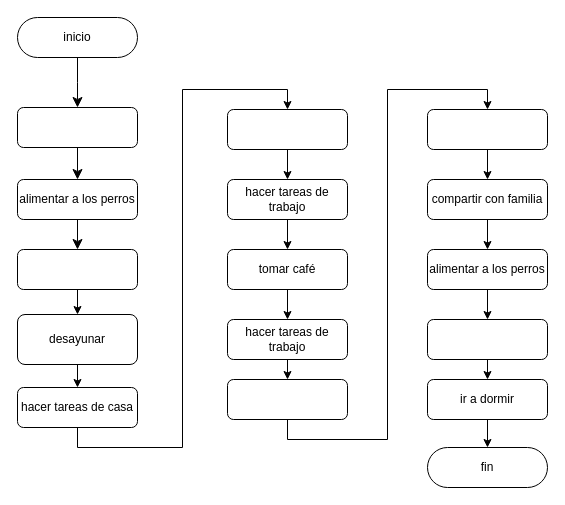
The diagram is 565 pixels wide and 505 high, and some of its shapes have lost their labels. The centre of each missing label's shape, as x and y in pixels:
"almorzar" goes at point 287,129.
"bañarme" goes at point 77,269.
"bañarme, etc." goes at point 487,339.
"Cenar" goes at point 287,399.
"despertar" goes at point 77,127.
"hacer tareas de U" goes at point 487,129.
